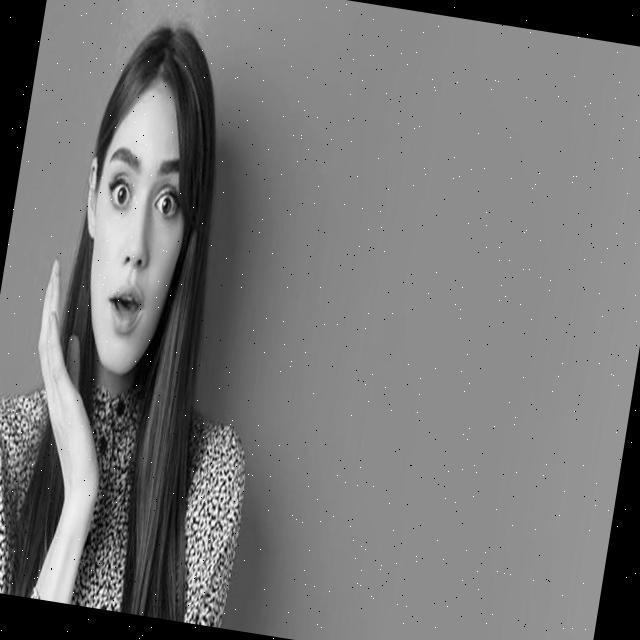Surprised: (69, 74, 208, 381)
